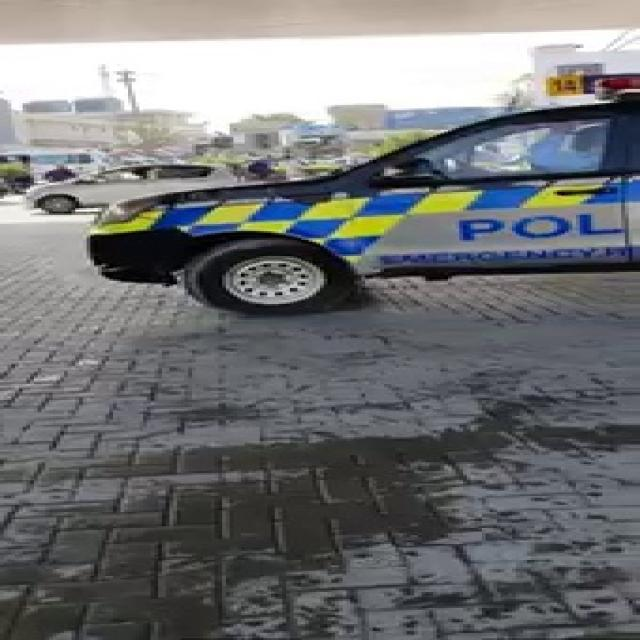police: (51, 70, 640, 306)
